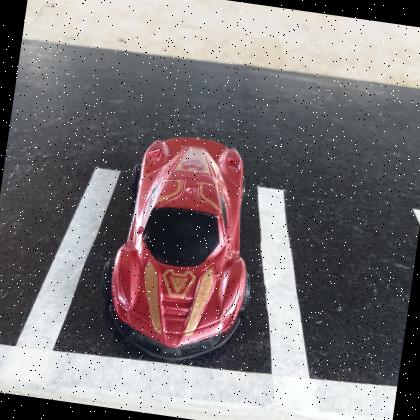Car: (110, 138, 248, 363)
